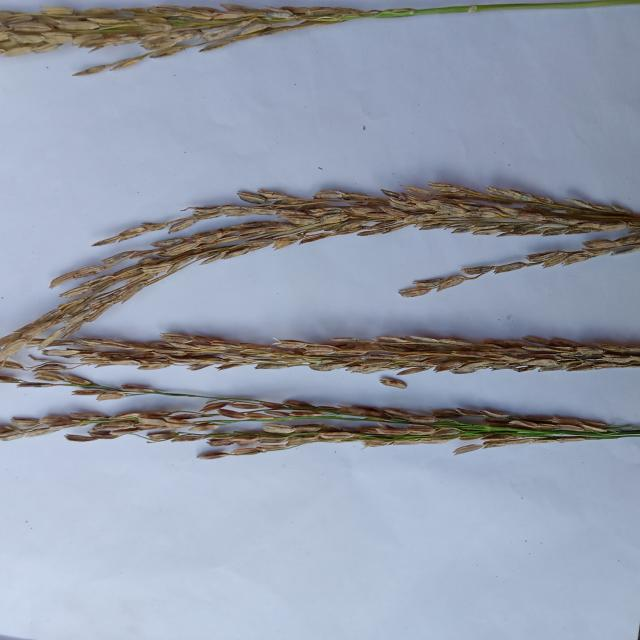Neck_Blast: (0, 187, 640, 363), (68, 404, 626, 460), (80, 336, 640, 374), (4, 4, 375, 61)
